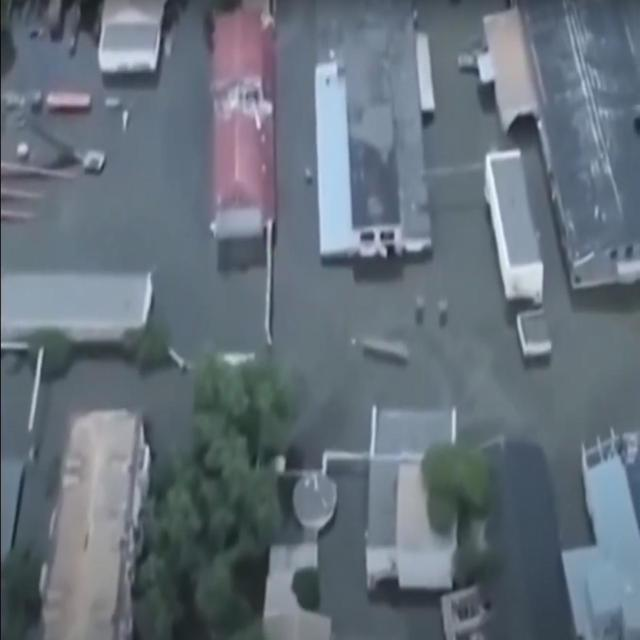flood: (0, 0, 452, 639), (431, 136, 640, 640), (413, 0, 640, 355)
house: (461, 2, 640, 299), (313, 14, 436, 265), (34, 407, 154, 632), (358, 394, 463, 594), (202, 0, 282, 250), (561, 420, 640, 640), (0, 253, 156, 362), (485, 146, 563, 363)
